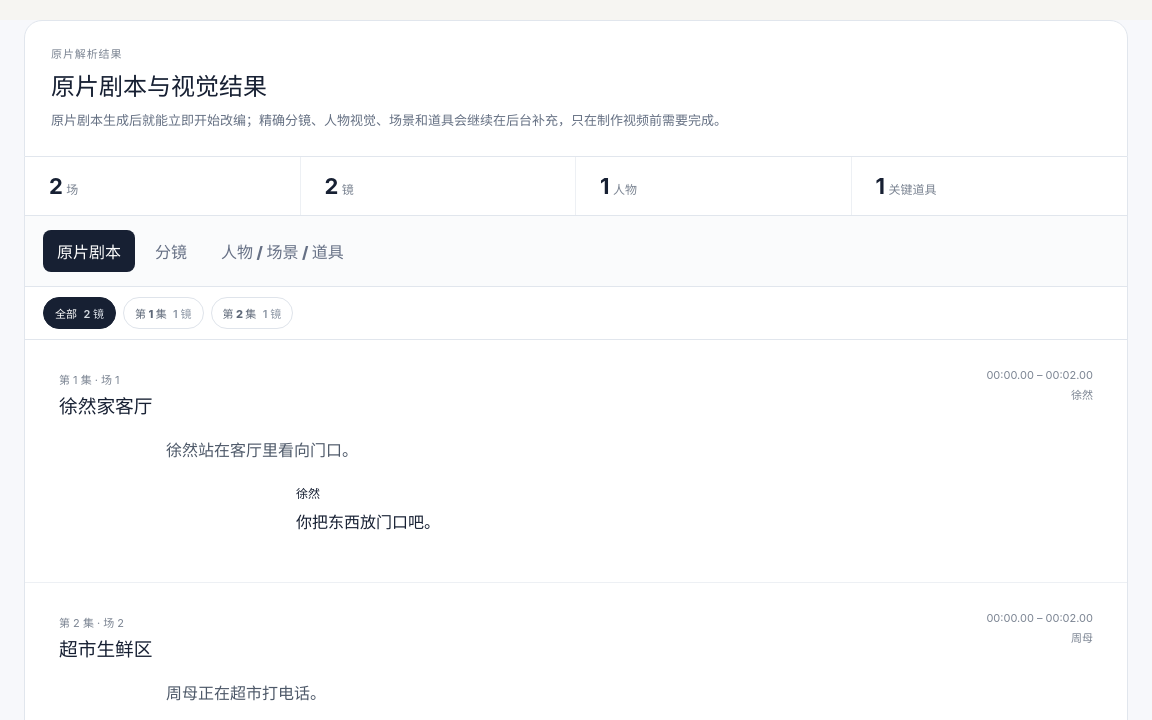
Test: SourceScriptStoryboardWorkspace › separates multi-episode script and storyboard results with episode switches
expect the navigation bar with test id "source-episode-tabs" shows "全部 2 镜": met, box [24,287,1128,340]
expect the navigation bar with test id "source-episode-tabs" shows "第 1 集 1 镜": met, box [24,287,1128,340]
Click the button "第 1 集 1 镜": (163, 313) [123,297,204,329]
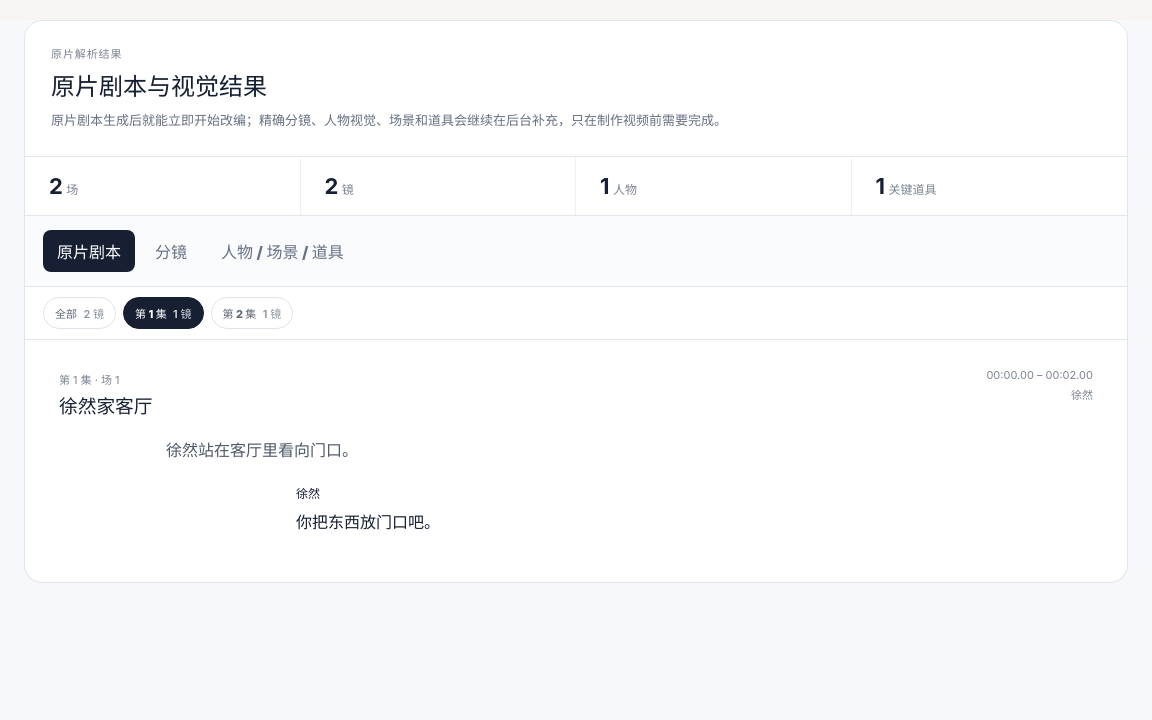
expect the element with test id "source-script-view" shows "徐然家客厅": met, box [59,395,152,418]
expect the heading with test id "source-script-view" no longer shows "超市生鲜区": met
Click the button "第 2 集 1 镜": (252, 313) [210,297,293,329]
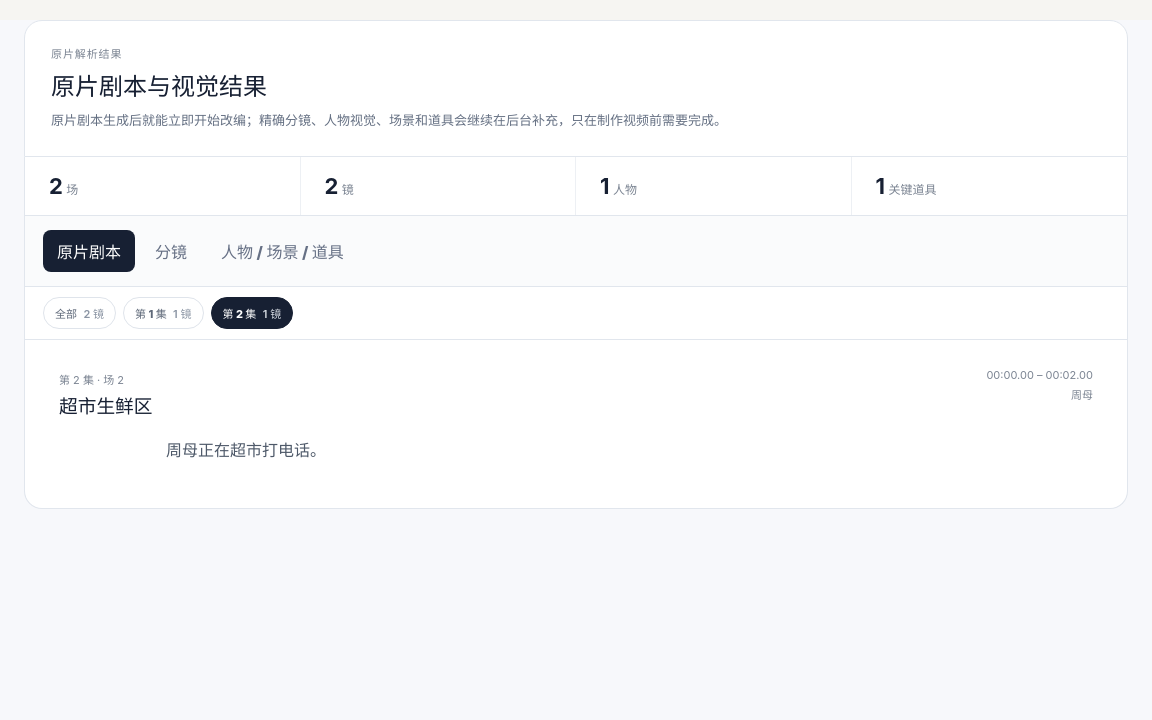
expect the element with test id "source-script-view" shows "超市生鲜区": met, box [59,395,152,418]
expect the heading with test id "source-script-view" no longer shows "徐然家客厅": met
Click the button "分镜": (171, 251) [141,230,201,272]
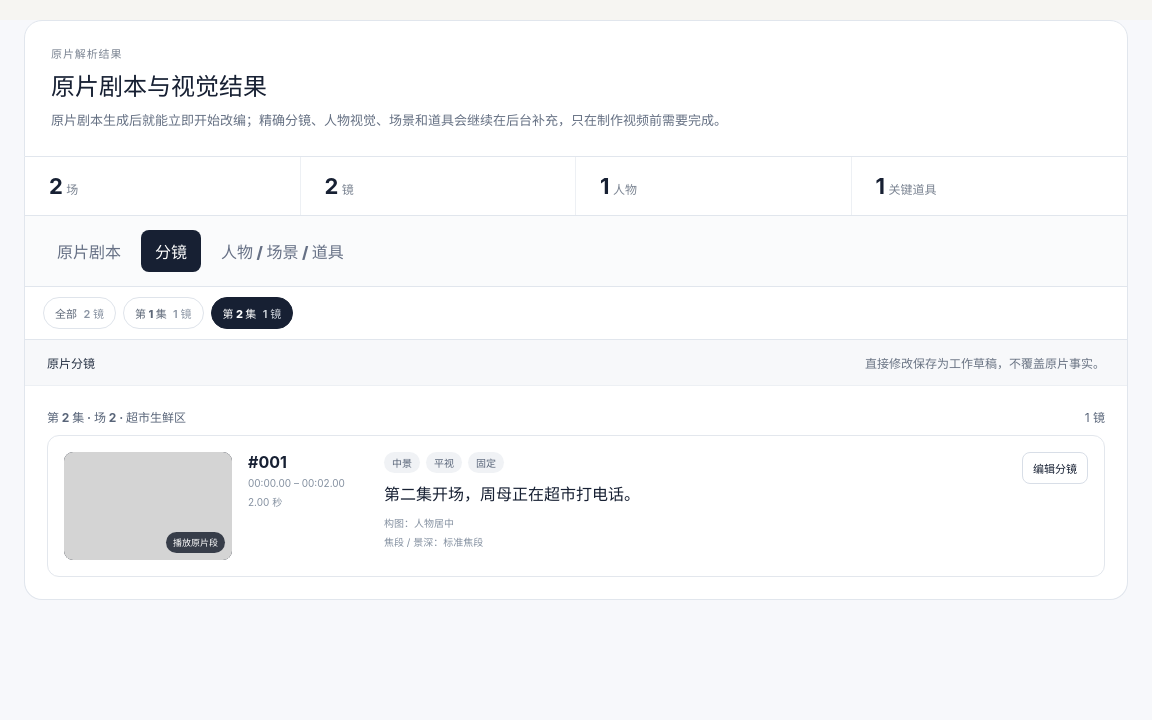
expect the text with test id "source-storyboard-view" does not show "徐然站在客厅里看向门口。": met
expect the element with test id "source-storyboard-view" shows "第二集开场": met, box [384,484,640,504]
